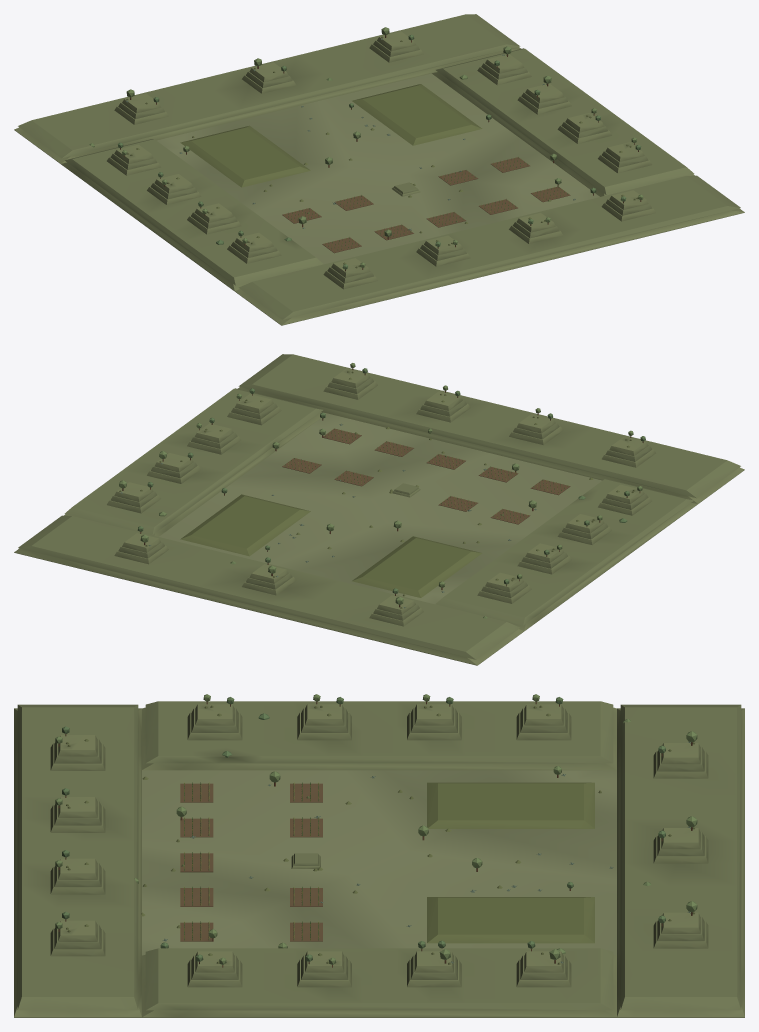
File: ciudadela-1500.glb
The picture shows the model from 3 angles, top to bottom: view 1: azimuth 30°, elevation 25°; view 2: azimuth 150°, elevation 25°; view 3: azimuth 270°, elevation 25°; orthographic projection. The views are drawn at different scales.
Parts seen in each view (by area): view 1: p0_platforms, p1_stage1, p2_growth; view 2: p0_platforms, p1_stage1, p2_growth; view 3: p0_platforms, p1_stage1, p2_growth.
Boxes of the visible parts, x1=… form: p0_platforms: x1=14, y1=14, x2=744, y2=325; p1_stage1: x1=107, y1=27, x2=655, y2=289; p2_growth: x1=89, y1=75, x2=596, y2=253; p0_platforms: x1=14, y1=354, x2=744, y2=665; p1_stage1: x1=107, y1=363, x2=655, y2=626; p2_growth: x1=159, y1=412, x2=627, y2=618; p0_platforms: x1=14, y1=701, x2=744, y2=1017; p1_stage1: x1=50, y1=694, x2=708, y2=987; p2_growth: x1=134, y1=713, x2=651, y2=954.
Bounding box in the file's own units: 400 × 25.77 × 400.
